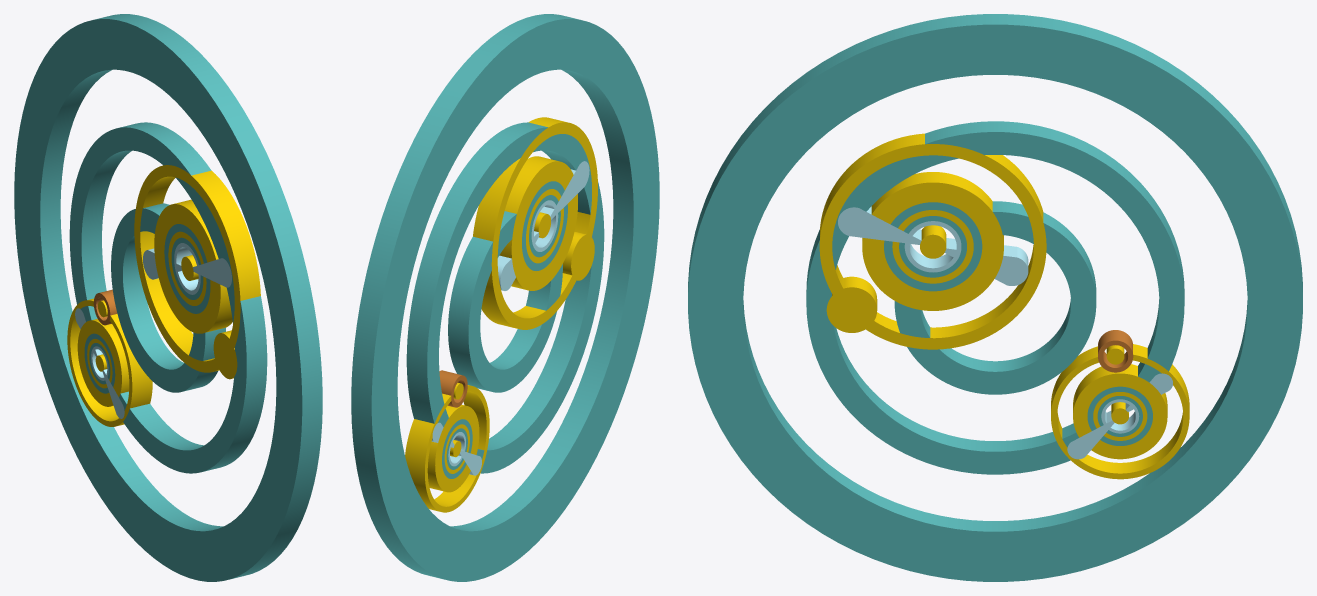
Rendered from collectable_insane.dae.
3 renders of one model, left to right at view 1: azimuth 30°, elevation 25°; view 2: azimuth 150°, elevation 25°; view 3: azimuth 270°, elevation 25°, orthographic. The views are drawn at different scales.
Visible parts, largest first — view 1: Component_6 (×21); view 2: Component_6 (×22); view 3: Component_6 (×23).
Boxes of the visible parts, x1,y1,x2,y2 form: Component_6 (×21): (14,14,322,581); Component_6 (×22): (351,14,659,581); Component_6 (×23): (688,14,1302,581).
Bounding box in the file's own units: 12.2 × 298 × 298.
